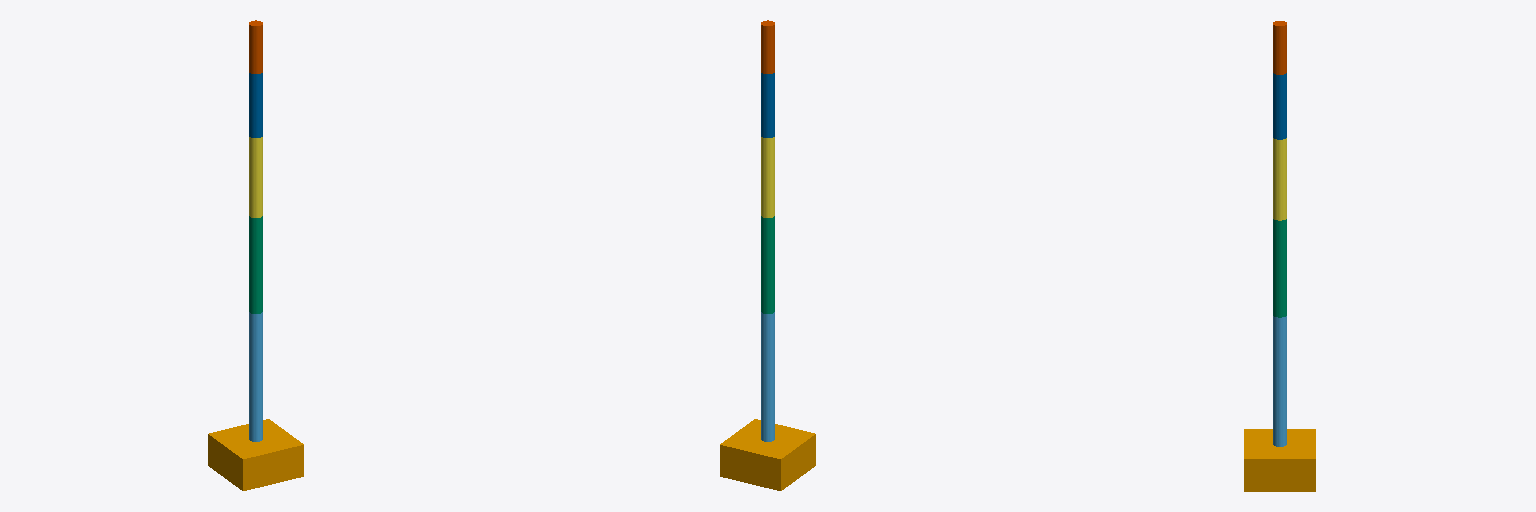
The robot description file, URDF, robot "complex_robot":
<?xml version="1.0"?>
<robot name="complex_robot">

    <!-- Base Link -->
    <link name="base_link">
        <visual>
            <geometry>
                <box size="0.2 0.2 0.1"/>
            </geometry>
        </visual>
    </link>

    <!-- Link 1 -->
    <link name="link1">
        <visual>
            <geometry>
                <cylinder radius="0.02" length="0.4"/>
            </geometry>
            <origin xyz="0 0 0.2" rpy="0 0 0"/>  <!-- Centered along length -->
        </visual>
    </link>

    <!-- Joint 1 - Allows 360 degree rotation -->
    <joint name="joint1" type="revolute">
        <parent link="base_link"/>
        <child link="link1"/>
        <origin xyz="0 0 0.05" rpy="0 0 0"/>
        <axis xyz="0 0 1"/>
        <limit lower="-3.14159" upper="3.14159" effort="1000" velocity="1.0"/>
    </joint>

    <!-- Link 2 -->
    <link name="link2">
        <visual>
            <geometry>
                <cylinder radius="0.02" length="0.3"/>
            </geometry>
            <origin xyz="0 0 0.15" rpy="0 0 0"/>  <!-- Centered along length -->
        </visual>
    </link>

    <!-- Joint 2 -->
    <joint name="joint2" type="revolute">
        <parent link="link1"/>
        <child link="link2"/>
        <origin xyz="0 0 0.4" rpy="0 0 0"/>
        <axis xyz="0 0 1"/>
        <limit lower="-1.5708" upper="1.5708" effort="1000" velocity="1.0"/>
    </joint>

    <!-- Link 3 -->
    <link name="link3">
        <visual>
            <geometry>
                <cylinder radius="0.02" length="0.25"/>
            </geometry>
            <origin xyz="0 0 0.125" rpy="0 0 0"/>  <!-- Centered along length -->
        </visual>
    </link>

    <!-- Joint 3 -->
    <joint name="joint3" type="revolute">
        <parent link="link2"/>
        <child link="link3"/>
        <origin xyz="0 0 0.3" rpy="0 0 0"/>
        <axis xyz="0 0 1"/>
        <limit lower="-1.5708" upper="1.5708" effort="1000" velocity="1.0"/>
    </joint>

    <!-- Link 4 -->
    <link name="link4">
        <visual>
            <geometry>
                <cylinder radius="0.02" length="0.2"/>
            </geometry>
            <origin xyz="0 0 0.1" rpy="0 0 0"/>  <!-- Centered along length -->
        </visual>
    </link>

    <!-- Joint 4 -->
    <joint name="joint4" type="revolute">
        <parent link="link3"/>
        <child link="link4"/>
        <origin xyz="0 0 0.25" rpy="0 0 0"/>
        <axis xyz="0 0 1"/>
        <limit lower="-1.5708" upper="1.5708" effort="1000" velocity="1.0"/>
    </joint>

    <!-- Link 5 -->
    <link name="link5">
        <visual>
            <geometry>
                <cylinder radius="0.02" length="0.15"/>
            </geometry>
            <origin xyz="0 0 0.075" rpy="0 0 0"/>  <!-- Centered along length -->
        </visual>
    </link>

    <!-- Joint 5 -->
    <joint name="joint5" type="revolute">
        <parent link="link4"/>
        <child link="link5"/>
        <origin xyz="0 0 0.2" rpy="0 0 0"/>
        <axis xyz="0 0 1"/>
        <limit lower="-1.5708" upper="1.5708" effort="1000" velocity="1.0"/>
    </joint>

</robot>

--- Render facts (derived) ---
The picture shows the robot from 3 angles, left to right: view 1: azimuth 30°, elevation 25°; view 2: azimuth 150°, elevation 25°; view 3: azimuth 270°, elevation 25°; orthographic projection.
Robot: complex_robot — 6 links, 5 joints (5 revolute); root link base_link; default pose: all joints at 0.
Links seen in each view (by area): view 1: base_link, link1, link2, link3, link4, link5; view 2: base_link, link1, link2, link3, link4, link5; view 3: base_link, link1, link2, link3, link4, link5.
Boxes of the visible links, box(x1,y1,x2,y2) form: base_link: box(208, 419, 303, 490); link1: box(249, 312, 262, 441); link2: box(249, 216, 262, 313); link3: box(249, 137, 262, 217); link4: box(249, 73, 262, 137); link5: box(249, 20, 262, 73); base_link: box(720, 419, 815, 490); link1: box(761, 312, 774, 441); link2: box(761, 216, 774, 313); link3: box(761, 137, 774, 217); link4: box(761, 73, 774, 137); link5: box(761, 20, 774, 73); base_link: box(1244, 429, 1315, 491); link1: box(1273, 316, 1286, 446); link2: box(1273, 219, 1286, 317); link3: box(1273, 138, 1286, 220); link4: box(1273, 73, 1286, 139); link5: box(1273, 21, 1286, 74).
Size in the robot's own frame: 0.2 by 0.2 by 1.4 metres.
Geometry: primitives only (box / cylinder / sphere), no mesh files.